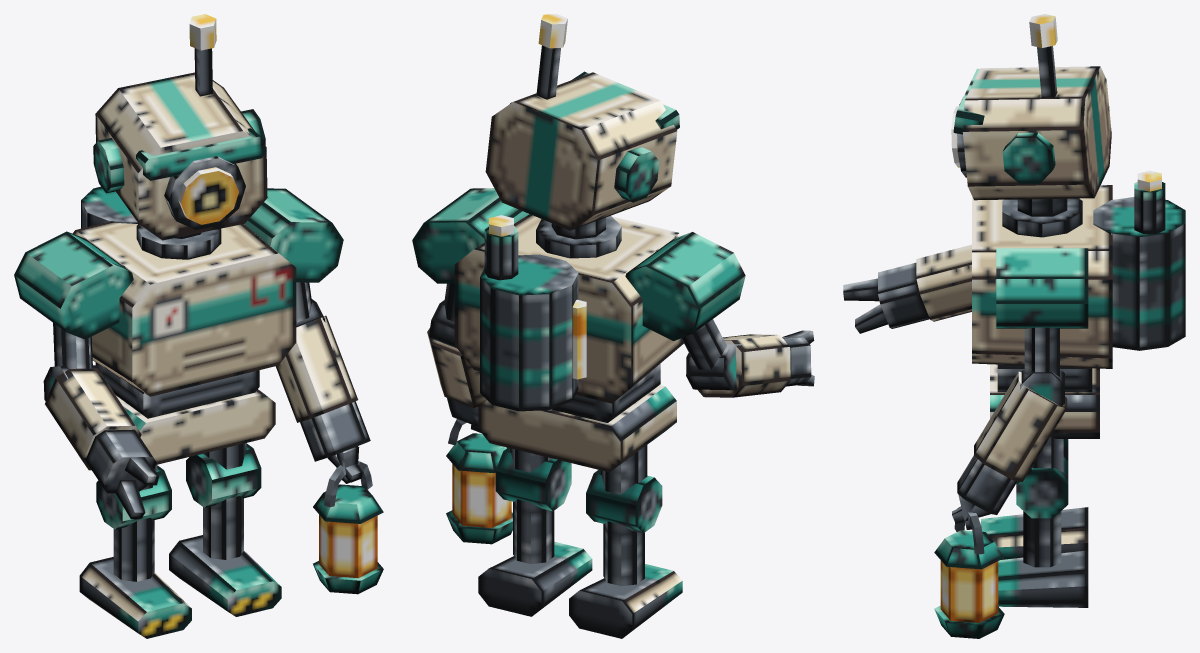
File: lamplighter_bot.obj
The picture shows the model from 3 angles, left to right: view 1: azimuth 30°, elevation 25°; view 2: azimuth 150°, elevation 25°; view 3: azimuth 270°, elevation 25°; orthographic projection. The views are drawn at different scales.
Parts seen in each view (by area): view 1: chest, helmet, l_pad, hips, r_pad, r_fore, boot_mirror, boot, l_fore, abdomen, lamp_glass, knee (+21 smaller); view 2: helmet, chest, tank, hips, l_pad, r_pad, boot, boot_mirror, l_fore, knee_mirror, knee, lamp_glass (+19 smaller); view 3: helmet, chest, tank, r_pad, r_fore, boot, l_fore, lamp_glass, boot_mirror, hips, l_palm, knee (+18 smaller).
Part boxes in pixels (bbox=[...]): chest: bbox=[72, 222, 296, 396]; helmet: bbox=[95, 72, 267, 240]; l_pad: bbox=[14, 231, 133, 339]; hips: bbox=[116, 389, 275, 464]; r_pad: bbox=[244, 188, 343, 282]; r_fore: bbox=[276, 315, 358, 422]; boot_mirror: bbox=[79, 557, 191, 638]; boot: bbox=[169, 535, 281, 616]; l_fore: bbox=[45, 368, 141, 470]; abdomen: bbox=[95, 362, 259, 418]; lamp_glass: bbox=[319, 514, 377, 578]; knee: bbox=[186, 443, 261, 507]; helmet: bbox=[485, 72, 677, 230]; chest: bbox=[454, 214, 683, 403]; tank: bbox=[480, 254, 578, 411]; hips: bbox=[478, 385, 676, 472]; l_pad: bbox=[625, 232, 745, 340]; r_pad: bbox=[412, 188, 529, 283]; boot: bbox=[478, 541, 592, 616]; boot_mirror: bbox=[569, 564, 682, 638]; l_fore: bbox=[697, 334, 790, 397]; knee_mirror: bbox=[586, 469, 662, 533]; knee: bbox=[495, 447, 571, 511]; lamp_glass: bbox=[452, 464, 511, 527]; helmet: bbox=[962, 66, 1111, 200]; chest: bbox=[972, 185, 1112, 368]; tank: bbox=[1093, 197, 1185, 350]; r_pad: bbox=[996, 248, 1088, 328]; r_fore: bbox=[974, 371, 1067, 482]; boot: bbox=[998, 550, 1088, 607]; l_fore: bbox=[916, 244, 971, 321]; lamp_glass: bbox=[940, 560, 998, 622]; boot_mirror: bbox=[981, 507, 1088, 559]; hips: bbox=[990, 364, 1099, 438]; l_palm: bbox=[878, 262, 929, 328]; knee: bbox=[1016, 457, 1068, 518].
Size of the model in its own units: 28.16 by 49.17 by 26.79.
1 material, 1 textured.
